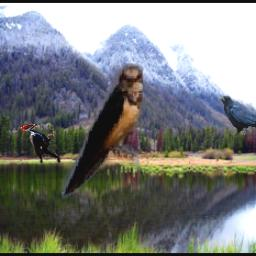Crow: (219, 96, 256, 135)
Swallow: (62, 64, 143, 200)
Woodpecker: (19, 122, 60, 164)
